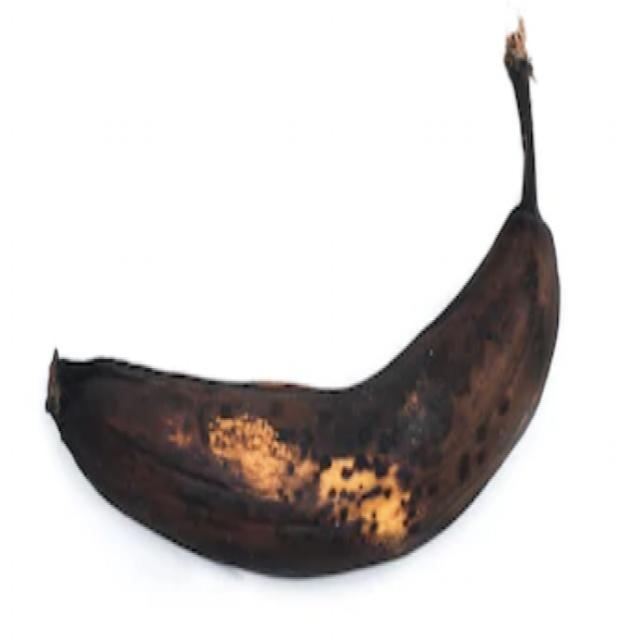rotten-banana: (40, 17, 563, 574)
